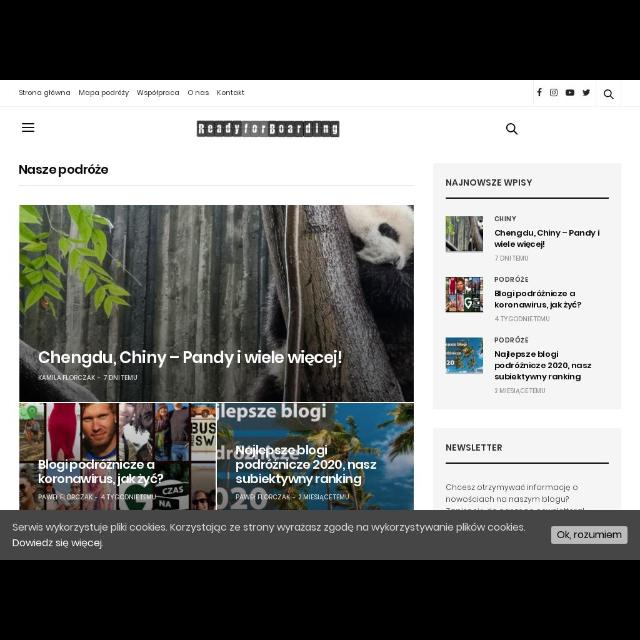icon: (20, 122, 36, 134), (603, 89, 615, 101), (506, 124, 518, 136), (548, 89, 560, 97), (564, 87, 576, 95), (582, 88, 590, 96), (538, 86, 542, 95)
image: (21, 205, 412, 402), (21, 404, 215, 510), (220, 406, 412, 509), (194, 122, 340, 136), (442, 193, 610, 204), (442, 458, 610, 468), (447, 275, 483, 311), (446, 216, 482, 252), (446, 339, 484, 373)
multitab: (14, 84, 246, 100), (532, 80, 622, 104)
text: (14, 522, 528, 534), (37, 352, 345, 366), (448, 484, 580, 508), (494, 351, 594, 381), (496, 230, 600, 247), (493, 290, 581, 310), (13, 538, 103, 550), (444, 177, 534, 189), (19, 164, 109, 176), (37, 374, 137, 380), (446, 442, 504, 452), (494, 316, 552, 324), (18, 88, 72, 96), (496, 388, 546, 396), (494, 274, 530, 284), (78, 90, 128, 96), (495, 336, 531, 344), (140, 90, 178, 96), (496, 254, 528, 260), (216, 89, 244, 95), (496, 214, 516, 222), (187, 90, 207, 96)
textbutton: (553, 528, 627, 544)
toolbar: (3, 106, 639, 164)
